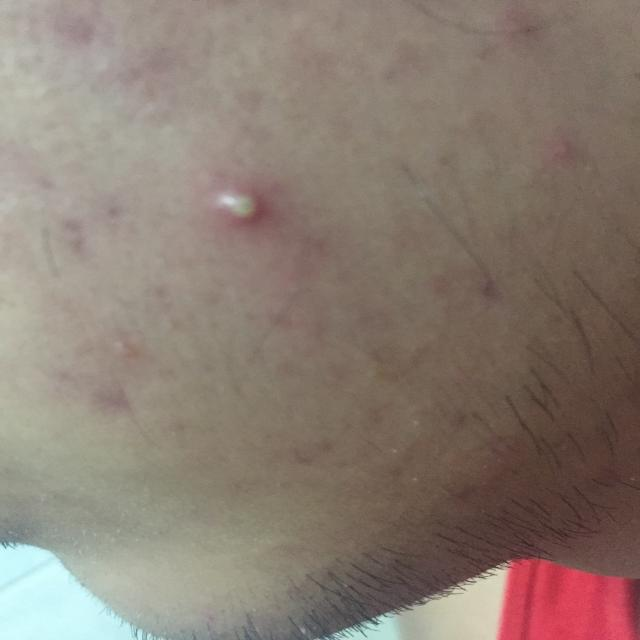blackheads: (209, 181, 274, 231)
